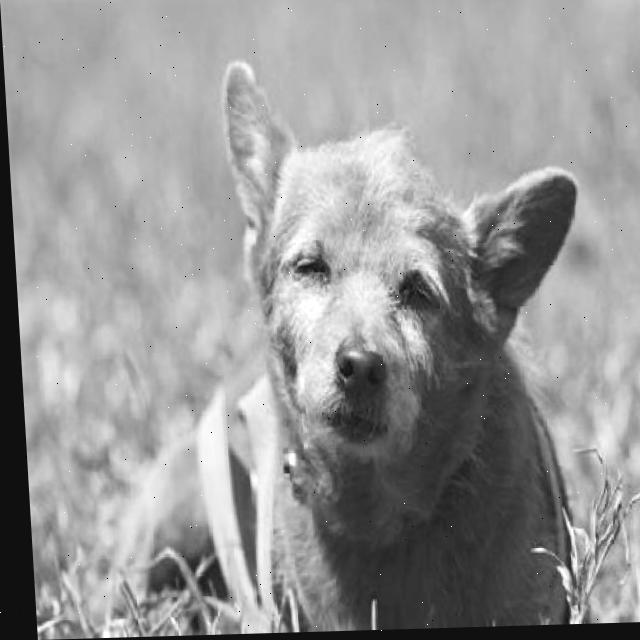Dog: (73, 46, 616, 637)
